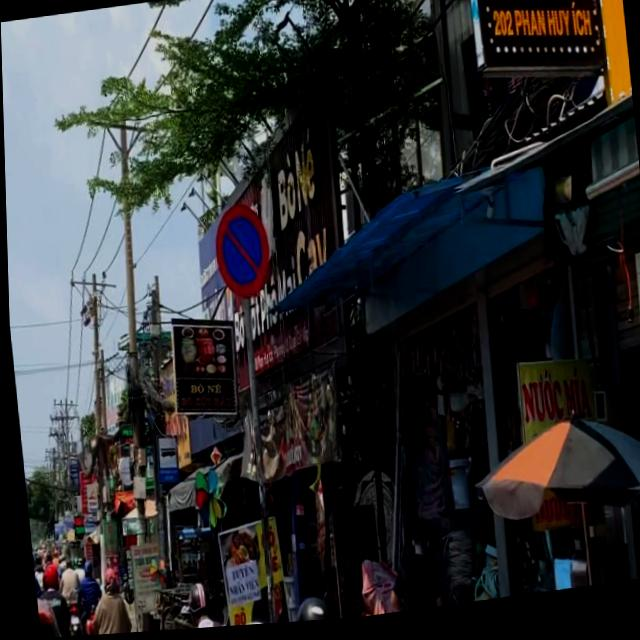Cam do xe: (206, 203, 273, 306)
